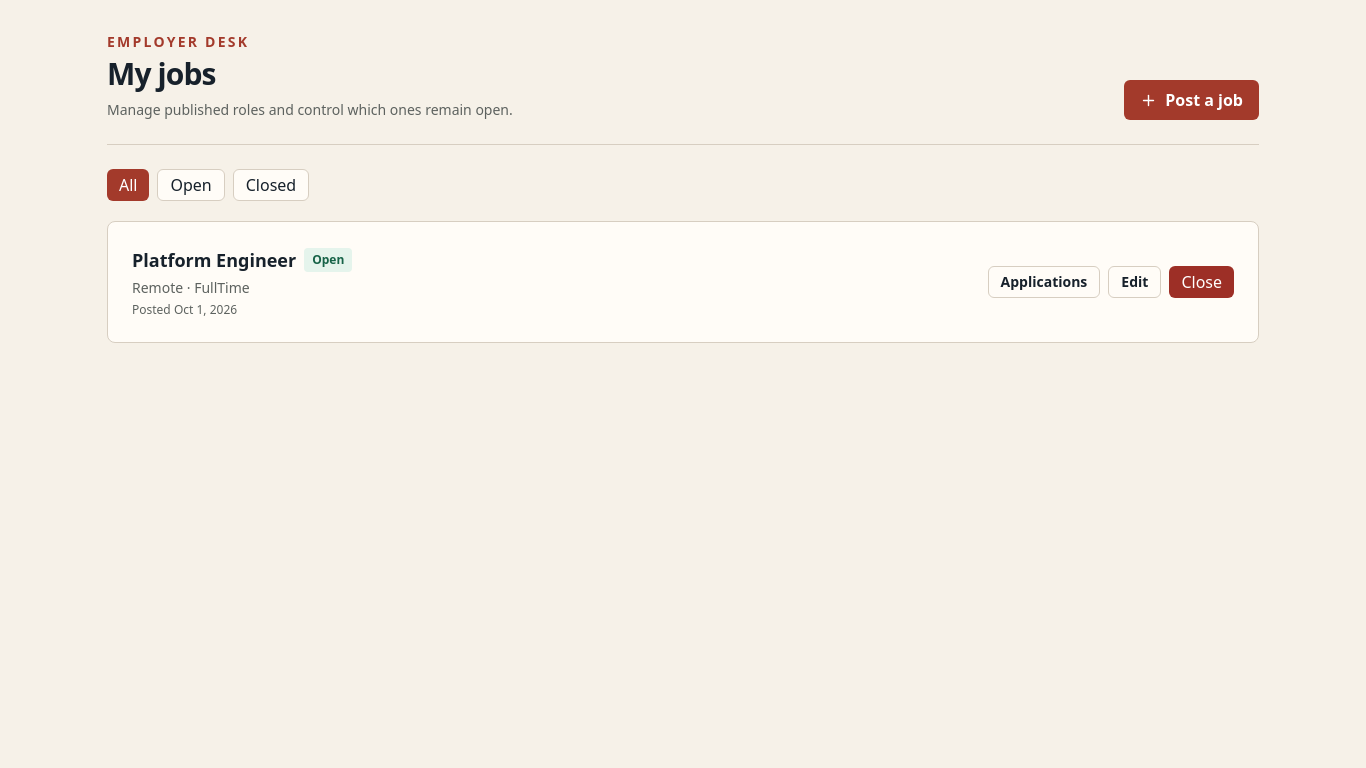
Test: EmployerJobsPage › retains the visible row state when a confirmed mutation fails
This screenshot has width=1366, height=768.
Expected: the heading "Platform Engineer" is shown, [132, 246, 296, 274]
Step 1. Click the button with aria-label "close platform engineer" → (1202, 282), box [1169, 266, 1234, 298]
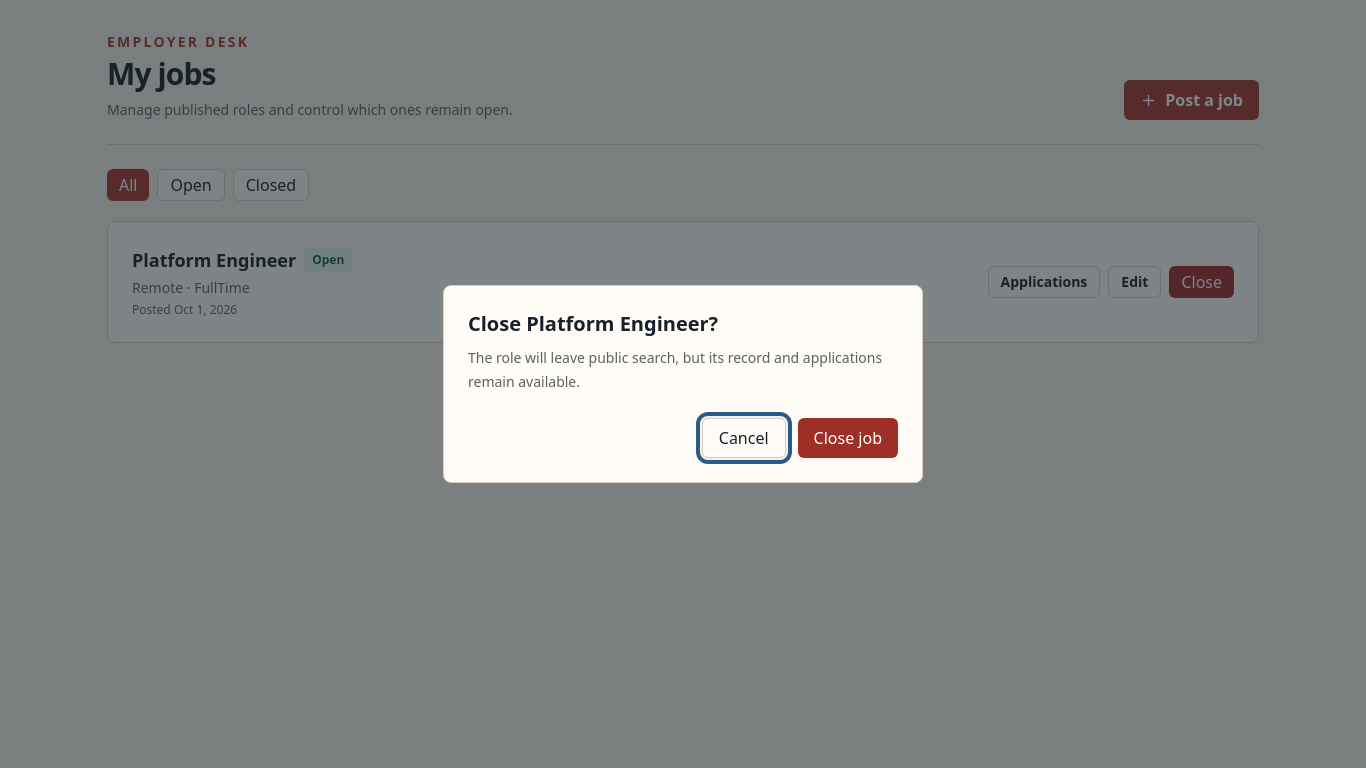
Step 2. Click the button "Close job" → (848, 438), box [798, 418, 898, 458]
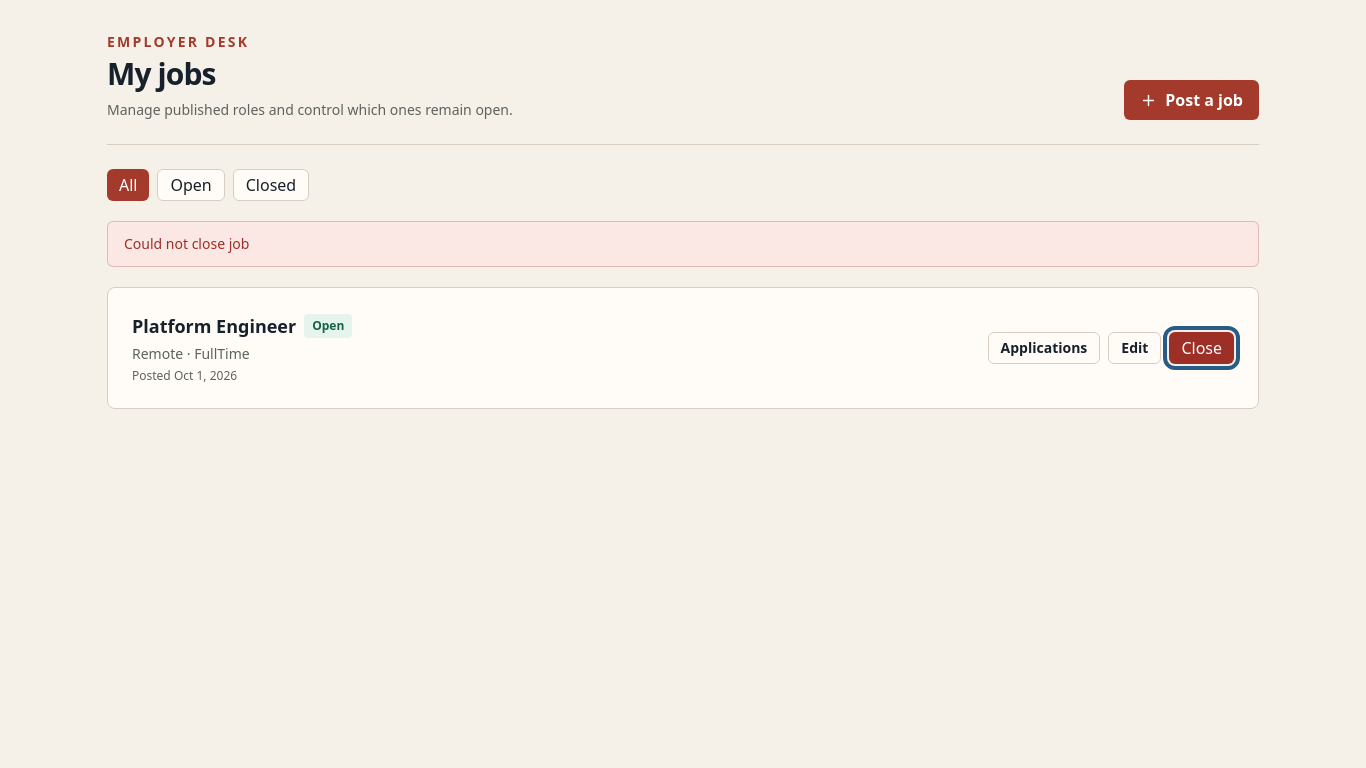
Expected: the text "Open" is shown, [304, 314, 352, 338]
Now the text "Could not close job" is shown, box [124, 234, 249, 253]
